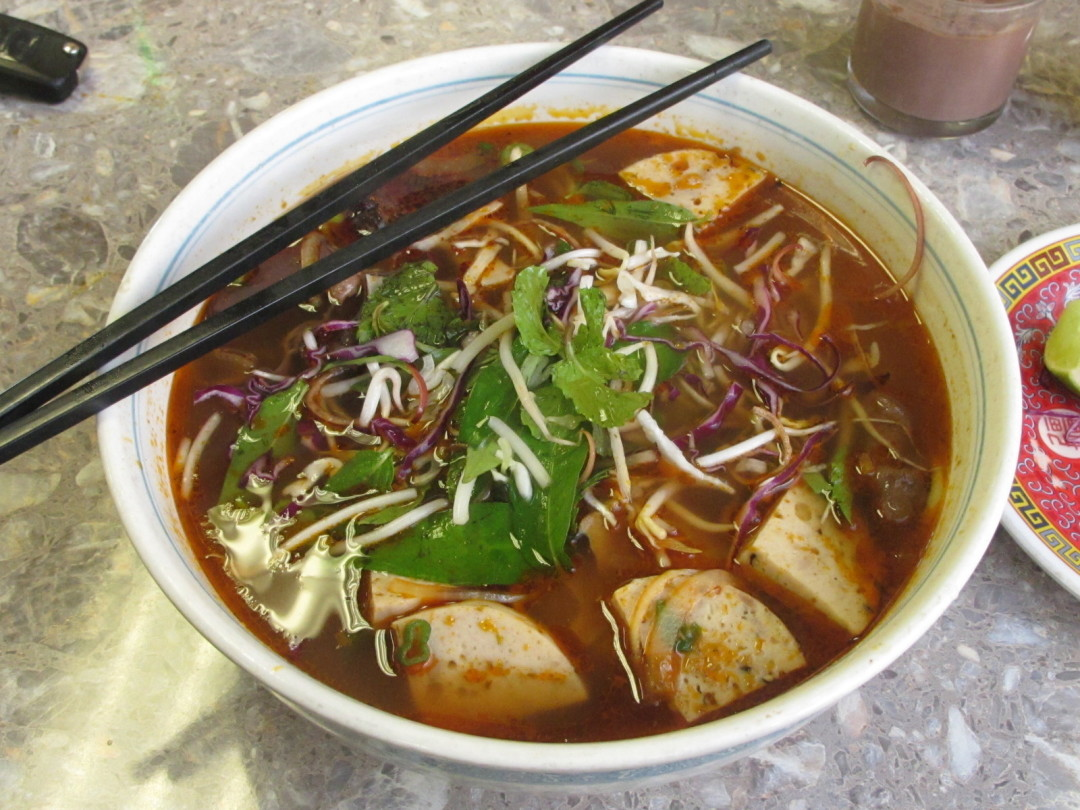chamoc: (386, 593, 588, 738), (610, 566, 802, 715), (745, 475, 876, 639)
vegetable: (325, 333, 566, 556), (549, 199, 723, 395)
